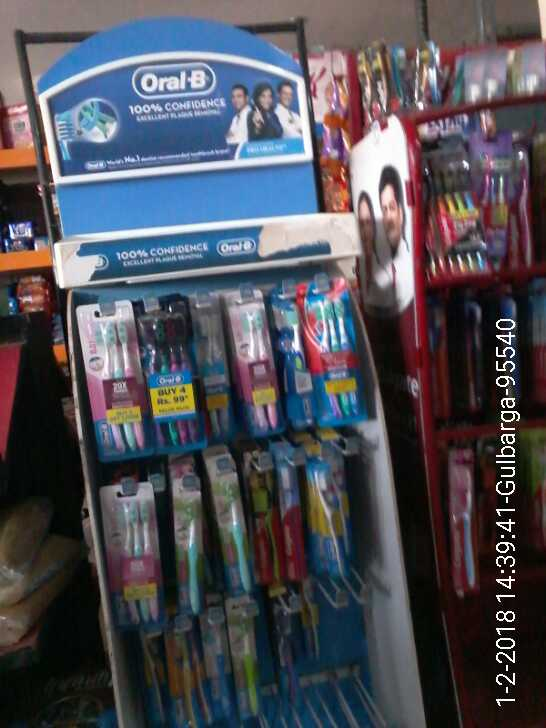oralb: (74, 314, 141, 453), (102, 494, 162, 629), (141, 308, 199, 446), (308, 295, 362, 425), (231, 304, 275, 431), (166, 493, 205, 615), (217, 470, 252, 598)
